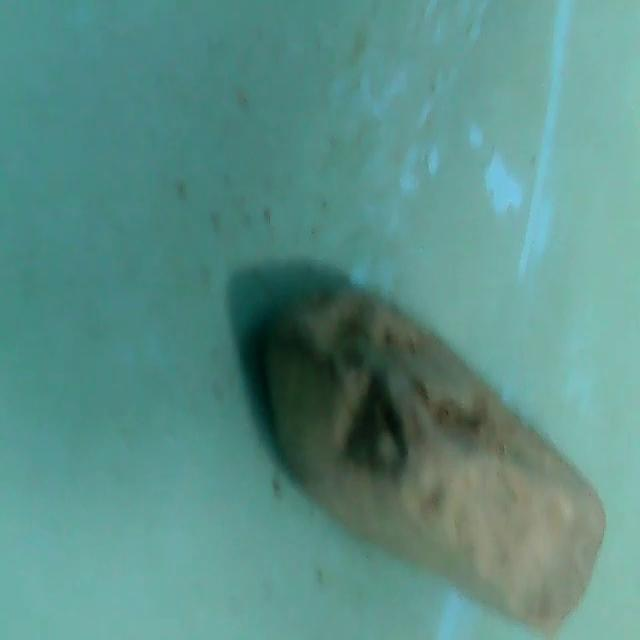rock: (244, 275, 618, 640)
